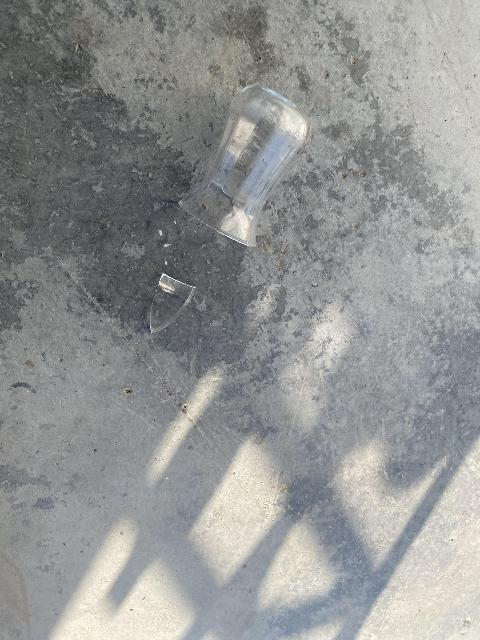Cam: (173, 87, 335, 252), (141, 273, 205, 337)
